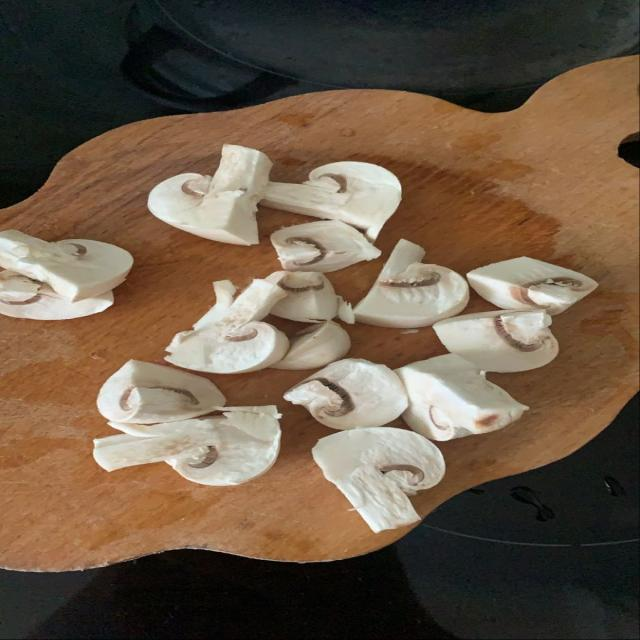champignon mushrooms: (93, 407, 280, 485), (312, 428, 444, 532), (148, 144, 272, 245), (165, 279, 288, 373), (396, 354, 528, 440), (261, 162, 401, 241), (354, 240, 469, 327), (0, 230, 132, 301), (166, 407, 280, 485), (284, 359, 407, 429), (97, 360, 225, 423), (434, 310, 558, 372), (467, 257, 598, 315), (271, 220, 381, 272), (0, 271, 113, 319), (273, 321, 350, 369), (267, 271, 338, 322), (338, 296, 355, 324)
